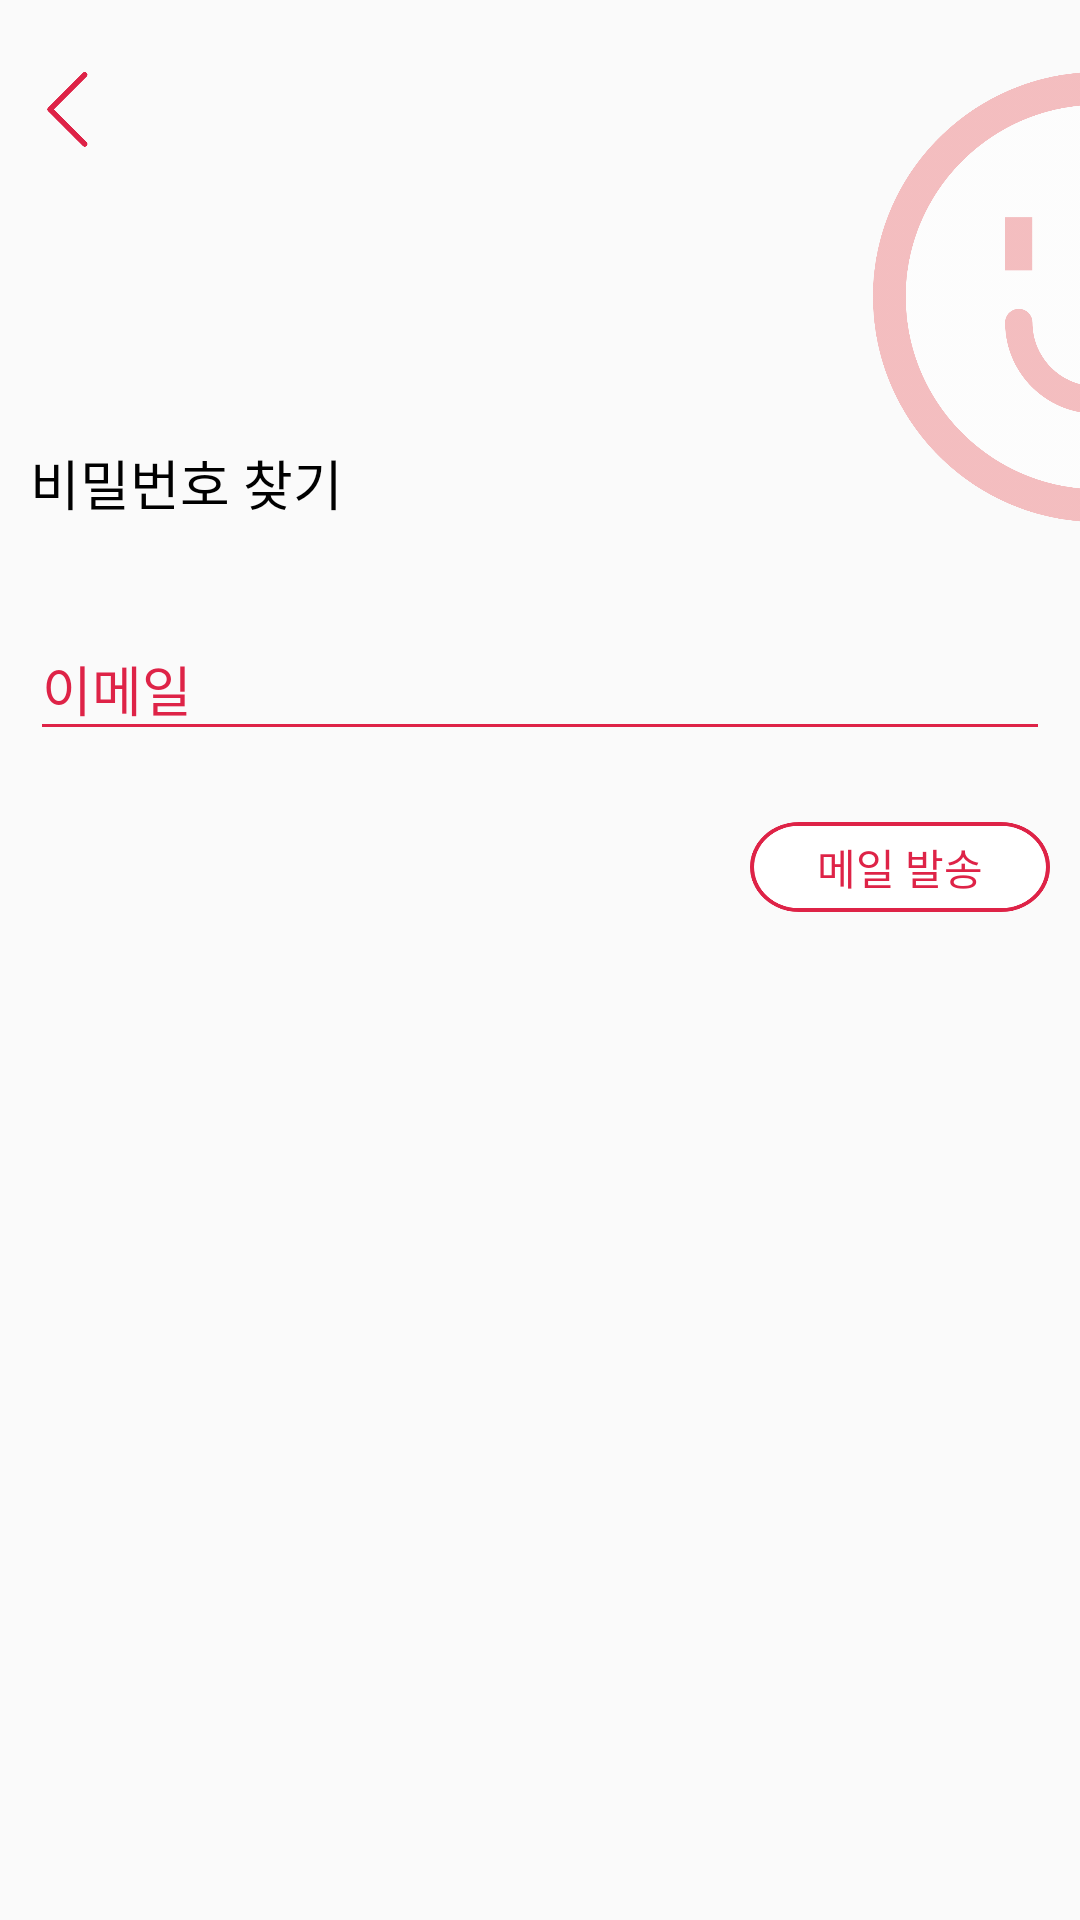

Screen size 1080px x 1920px. Icon name, then its center in pixels as point (x, y):
back: point (67, 109)
